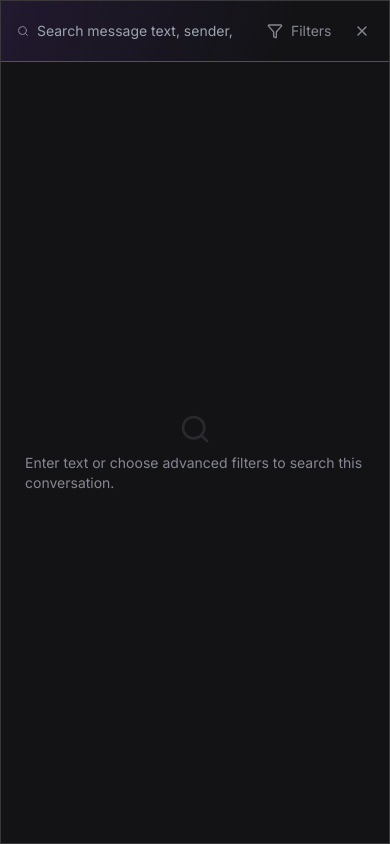
Test: MessageSearch › continues after an empty bounded scan window
The width and height of the screenshot is (390, 844).
Type "older" into the search field named "Search messages".
click(142, 31); type("older")  # box top-left (37, 21), bottom-right (247, 41)
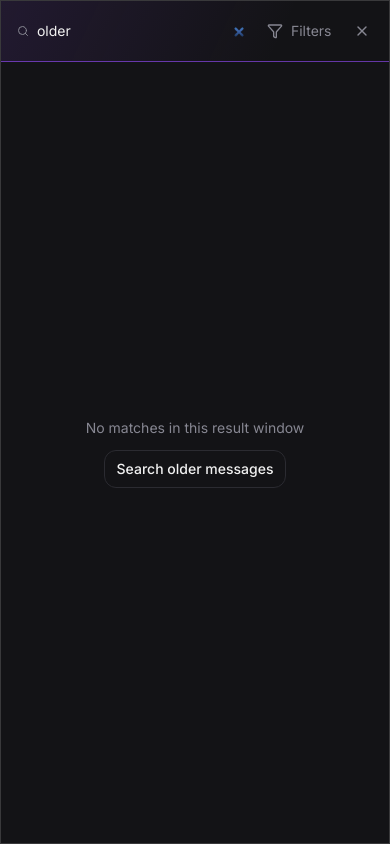
Click the button "Search older messages".
click(195, 468)  # box top-left (104, 450), bottom-right (286, 488)
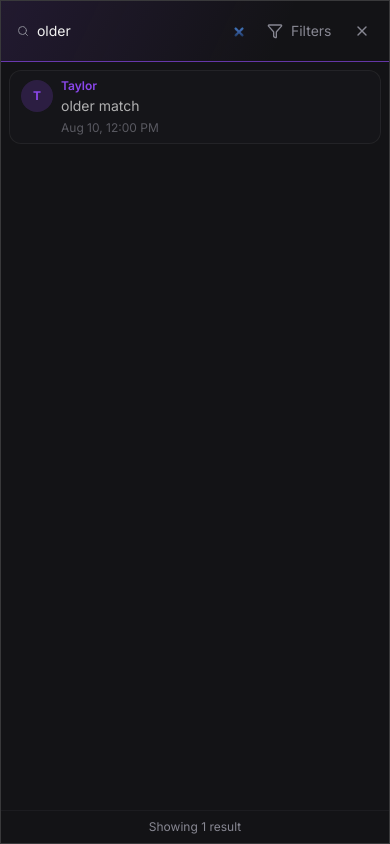
Result: the text "older match" is shown at top-left (61, 97), bottom-right (140, 114)
